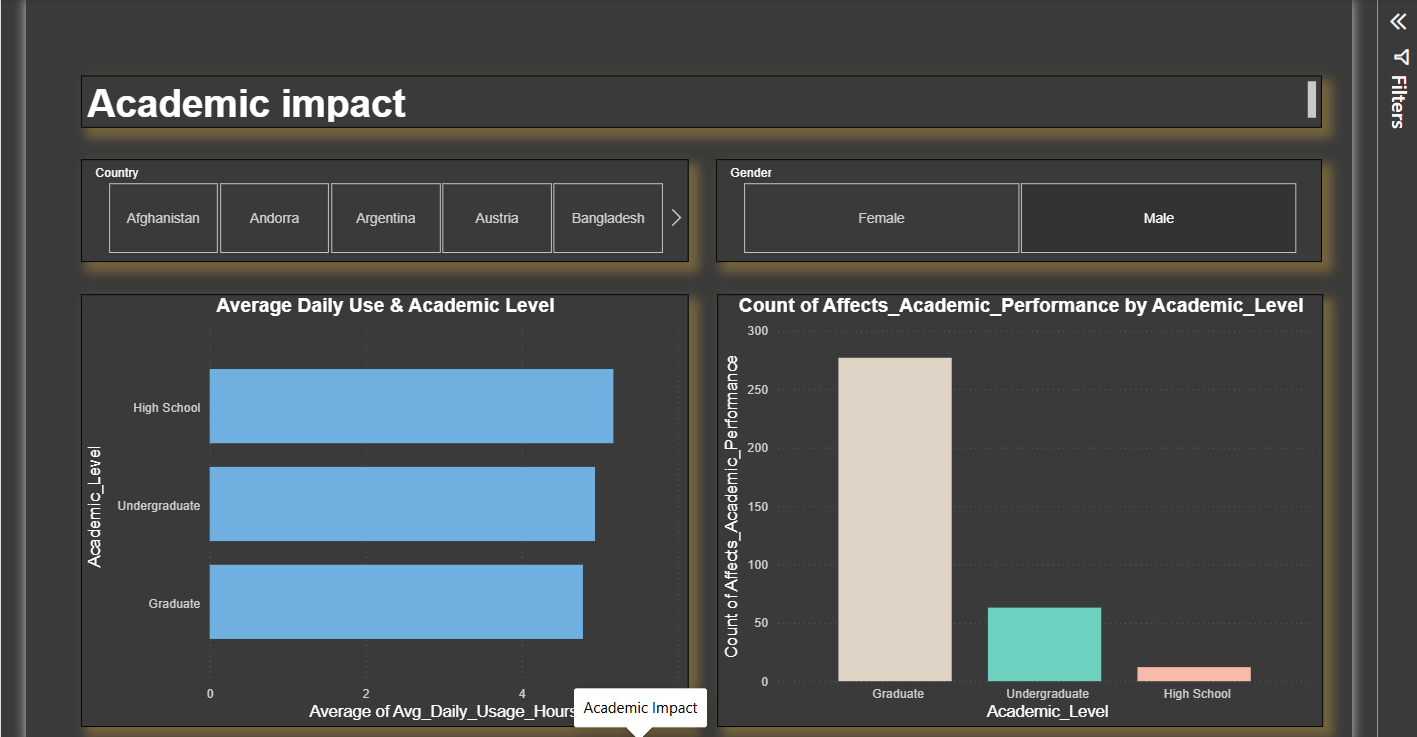

Layout of this report page (visuals, bound fields, positions):
{"tool":"powerbi","page":{"name":"Academic Impact","canvas":[1280,720],"ordinal":2},"visuals":[{"type":"clusteredBarChart","title":"Average Daily Use & Academic Level","fields":{"Y":["Avg(Platform Details.Avg_Daily_Usage_Hours)"],"Category":["Student Details.Academic_Level"]},"box":[53.1,285.9,586.3,417.4],"z":0},{"type":"clusteredColumnChart","fields":{"Y":["CountNonNull(Platform Details.Affects_Academic_Performance)"],"Category":["Student Details.Academic_Level"]},"box":[667.2,285.9,585.1,417.4],"z":1000},{"type":"slicer","fields":{"Values":["Student Details.Country"]},"box":[53.1,155.6,586.3,98.9],"z":2000},{"type":"slicer","fields":{"Values":["Student Details.Gender"]},"box":[666,155.6,585.1,98.9],"z":3000},{"type":"textbox","box":[53.1,74.8,1198,50.7],"z":4000}]}

Visuals, with their boxes on the page's 1280x720 design canvas (x1, y1, x2, y2). These are canvas units, not pixel positions in the 1417x737 screenshot, which may show the page scaled, cropped or inside an application window:
"Average Daily Use & Academic Level" clusteredBarChart: <bbox>53, 286, 639, 703</bbox>
clusteredColumnChart - CountNonNull(Platform Details.Affects_Academic_Performance) x Student Details.Academic_Level: <bbox>667, 286, 1252, 703</bbox>
slicer - Student Details.Country: <bbox>53, 156, 639, 254</bbox>
slicer - Student Details.Gender: <bbox>666, 156, 1251, 254</bbox>
textbox: <bbox>53, 75, 1251, 126</bbox>
